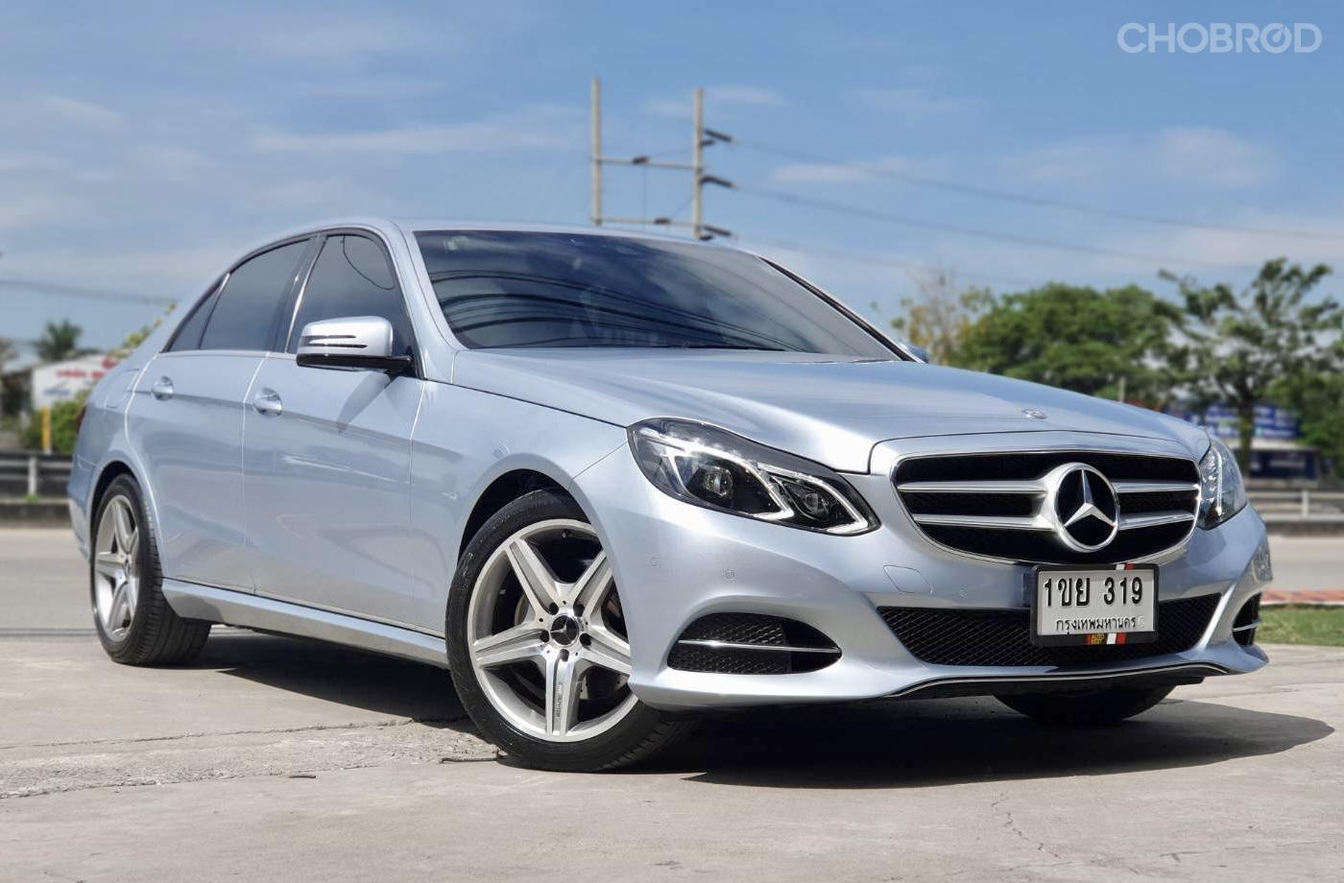license-plate: (1025, 564, 1162, 640)
